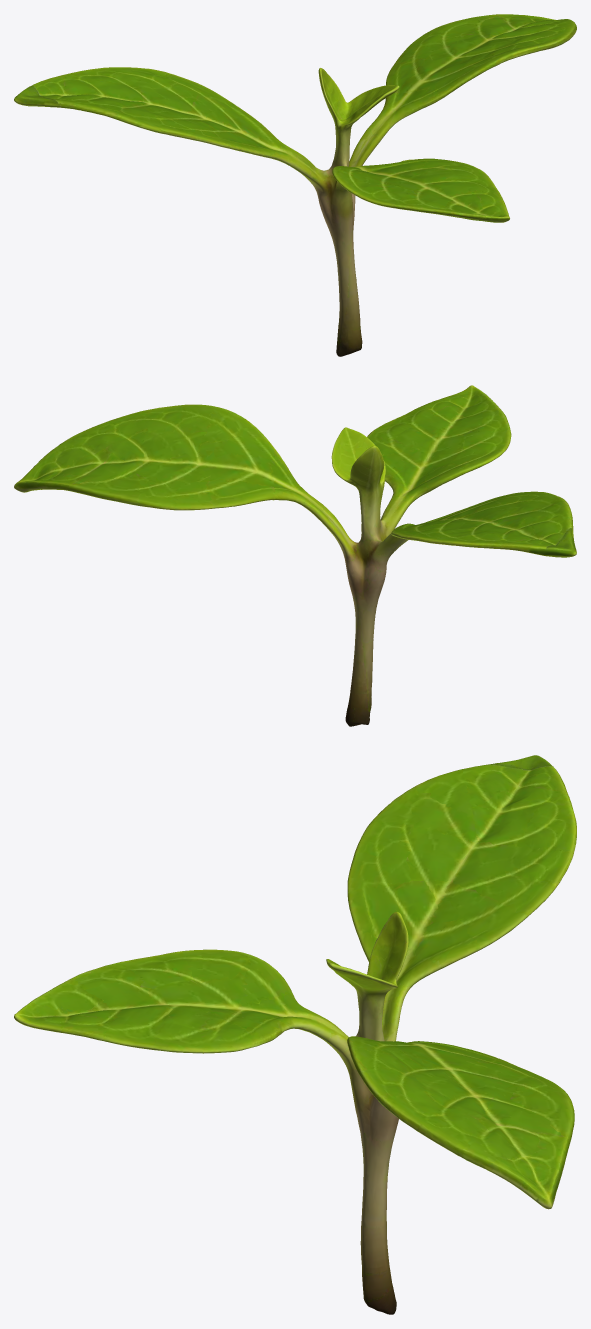
The model's file is stage-1.glb.
The picture shows the model from 3 angles, top to bottom: view 1: azimuth 30°, elevation 25°; view 2: azimuth 150°, elevation 25°; view 3: azimuth 270°, elevation 25°; orthographic projection. The views are drawn at different scales.
Size of the model in its own units: 1.9 by 0.941 by 1.25.
Materials: 1 (1 with a texture image).
